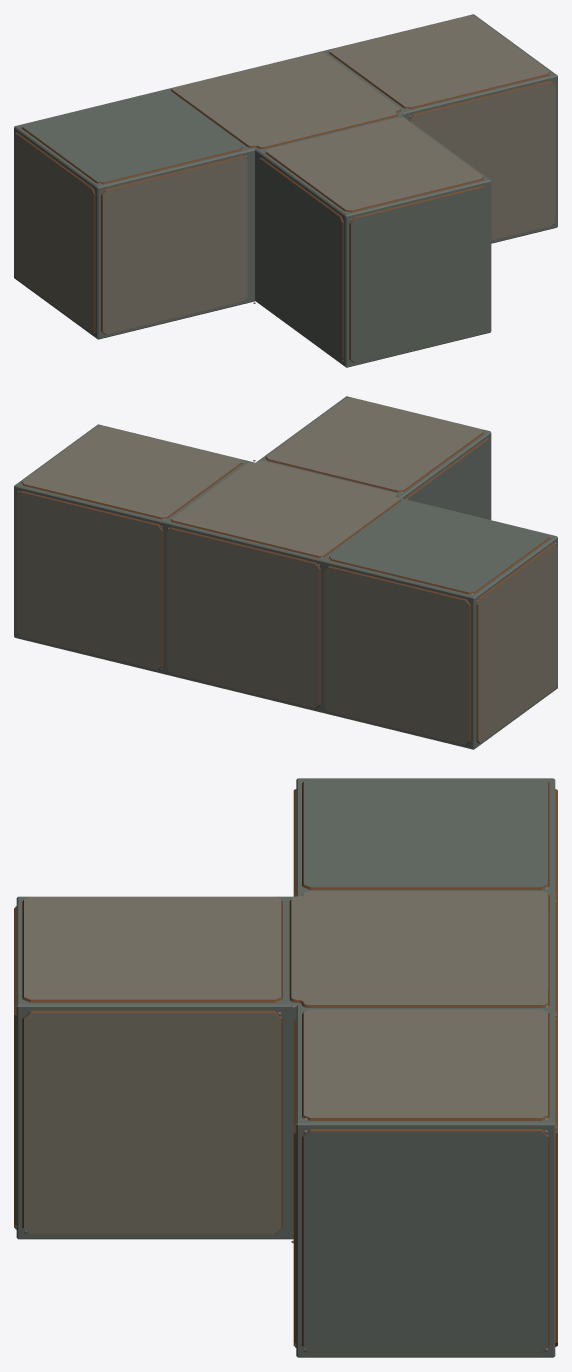
The model's file is R4B_Tee4.fbx.
The picture shows the model from 3 angles, top to bottom: view 1: azimuth 30°, elevation 25°; view 2: azimuth 150°, elevation 25°; view 3: azimuth 270°, elevation 25°; orthographic projection. The views are drawn at different scales.
Visible parts, largest first — view 1: R4B_Tee4; view 2: R4B_Tee4; view 3: R4B_Tee4.
Boxes of the visible parts, <box> form: R4B_Tee4: <box>14,14,557,367</box>; R4B_Tee4: <box>14,396,557,749</box>; R4B_Tee4: <box>14,778,557,1357</box>.
Size of the model in its own units: 1.62 by 0.52 by 1.07.
